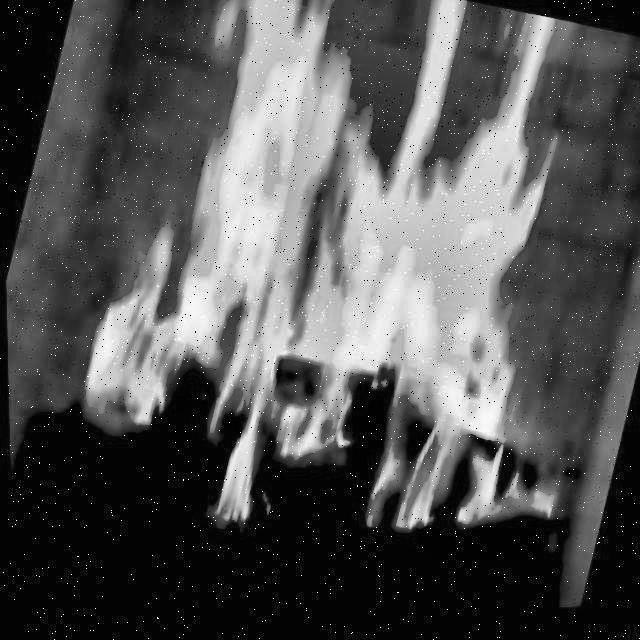Fire: (41, 0, 640, 622)
